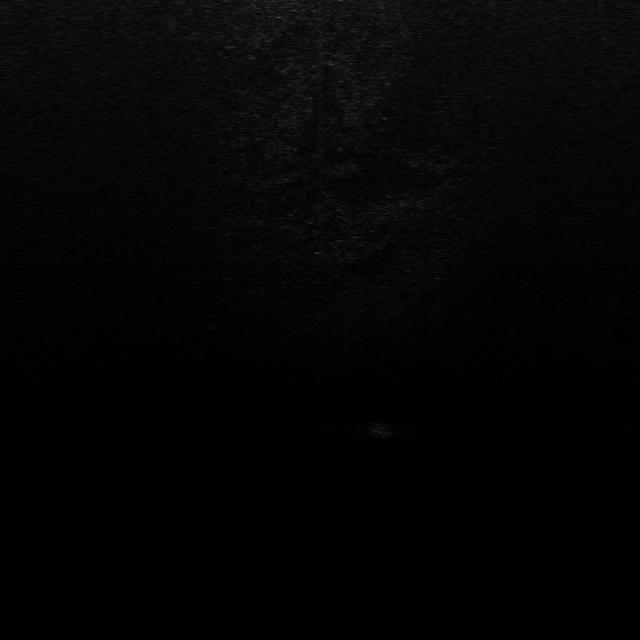ball: (366, 418, 400, 439)
circle cage: (201, 314, 228, 331)
